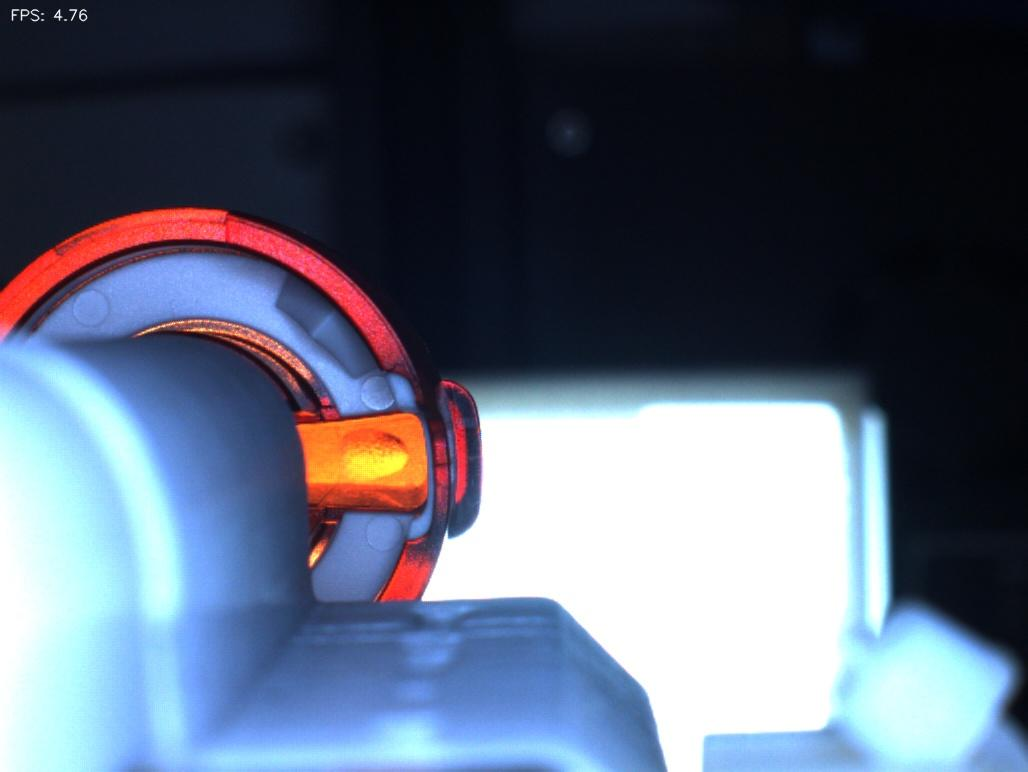Retassure: (328, 424, 421, 485)
